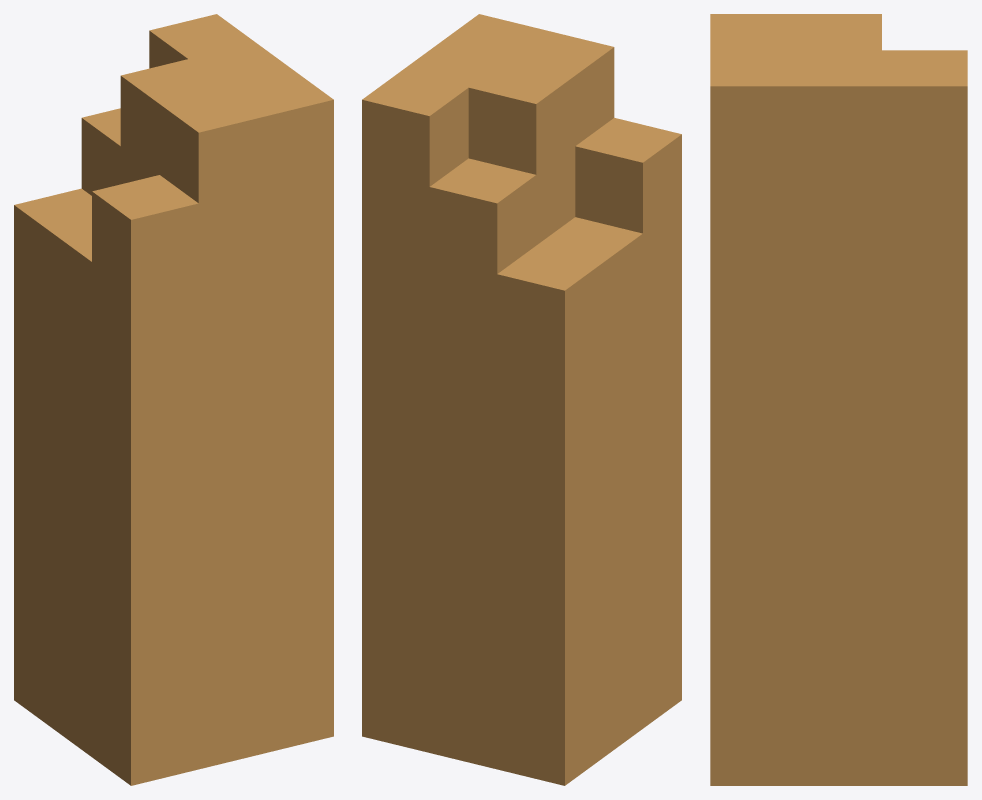
The model's file is dog__leg_fl.glb.
The picture shows the model from 3 angles, left to right: view 1: azimuth 30°, elevation 25°; view 2: azimuth 150°, elevation 25°; view 3: azimuth 270°, elevation 25°; orthographic projection. The views are drawn at different scales.
Visible parts, largest first — view 1: dog__leg_fl; view 2: dog__leg_fl; view 3: dog__leg_fl.
Part boxes in pixels (bbox=[...]): dog__leg_fl: bbox=[14, 14, 333, 785]; dog__leg_fl: bbox=[362, 14, 681, 785]; dog__leg_fl: bbox=[710, 14, 967, 785].
Bounding box in the file's own units: 0.3 × 0.9 × 0.3.
1 material, 1 textured.
